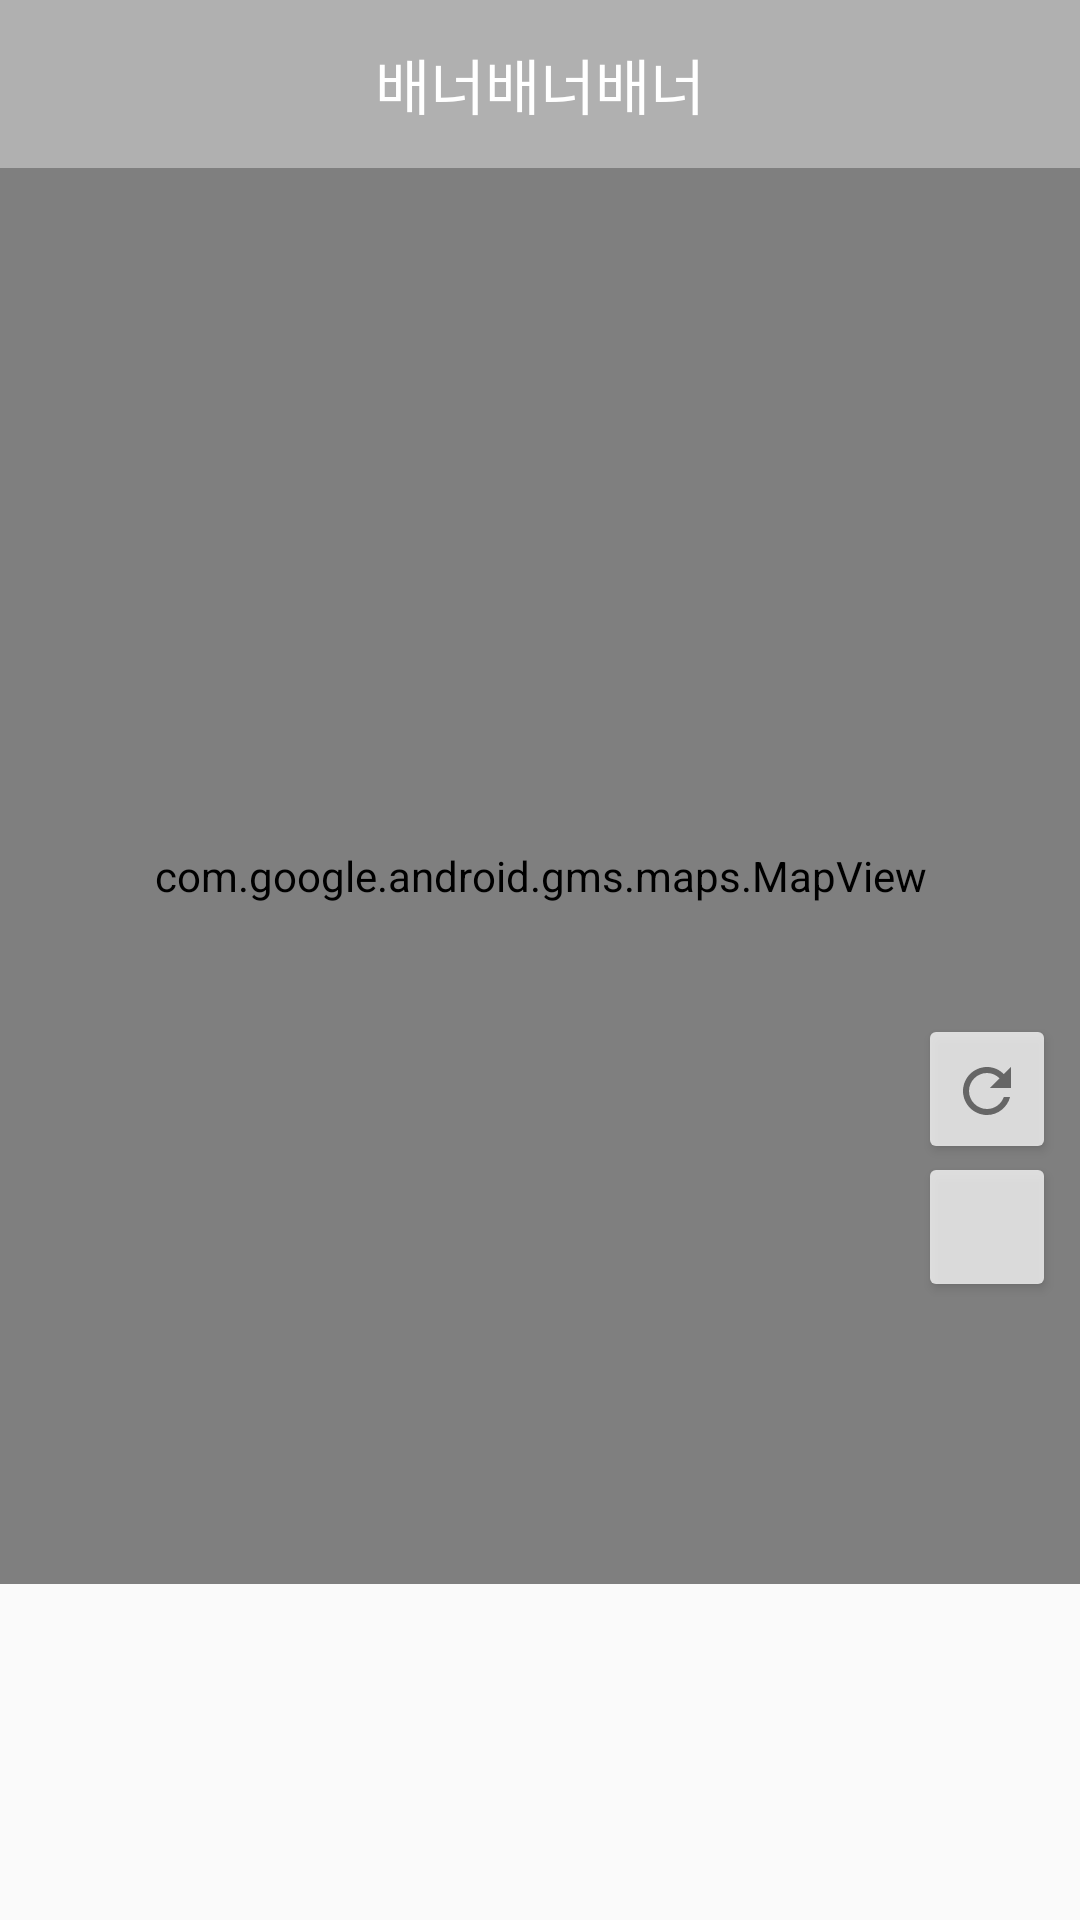

Icons on this 1080px x 1920px Android screen, each with its box as [x1, y1, x2, y2]:
refresh: [930, 1032, 1044, 1146]
